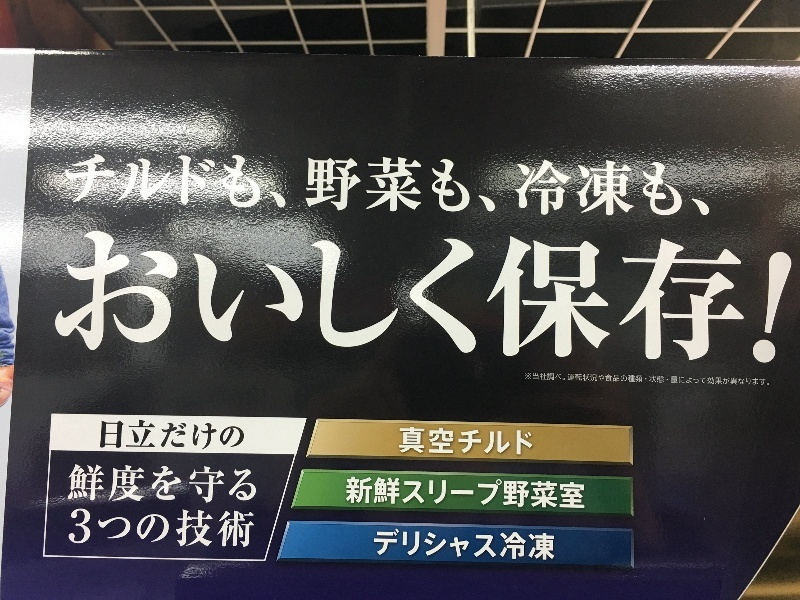text: (65, 230, 80, 366), (81, 230, 96, 366), (97, 230, 112, 366), (113, 230, 128, 366), (129, 230, 144, 366), (145, 230, 160, 366), (161, 230, 176, 366), (177, 230, 192, 366), (193, 230, 208, 366), (209, 230, 224, 366), (225, 230, 240, 366), (241, 230, 256, 366), (257, 230, 272, 366), (273, 230, 288, 366), (289, 230, 304, 366), (305, 230, 320, 366), (321, 230, 336, 366), (337, 230, 352, 366), (353, 230, 368, 366), (369, 230, 384, 366), (385, 230, 400, 366), (401, 230, 416, 366), (417, 230, 432, 366), (433, 230, 448, 366), (449, 230, 464, 366), (465, 230, 480, 366), (481, 230, 496, 366), (497, 230, 512, 366), (513, 230, 528, 366), (529, 230, 544, 366), (545, 230, 560, 366), (561, 230, 576, 366), (577, 230, 592, 366), (593, 230, 608, 366), (609, 230, 624, 366), (625, 230, 640, 366), (641, 230, 656, 366), (657, 230, 672, 366), (673, 230, 688, 366), (689, 230, 704, 366), (705, 230, 720, 366), (721, 230, 736, 366), (737, 230, 752, 366), (753, 230, 768, 366), (769, 230, 784, 366), (785, 230, 794, 366), (81, 154, 96, 221), (97, 154, 112, 221), (113, 154, 128, 221), (129, 154, 144, 221), (145, 154, 160, 221), (161, 154, 176, 221), (177, 154, 192, 221), (193, 154, 208, 221), (209, 154, 224, 221), (225, 154, 240, 221), (241, 154, 256, 221), (257, 154, 272, 221), (273, 154, 288, 221), (289, 154, 304, 221), (305, 154, 320, 221), (321, 154, 336, 221), (337, 154, 352, 221), (353, 154, 368, 221), (369, 154, 384, 221), (385, 154, 400, 221), (401, 154, 416, 221), (417, 154, 432, 221), (433, 154, 448, 221), (449, 154, 464, 221), (465, 154, 480, 221), (481, 154, 496, 221), (497, 154, 512, 221), (513, 154, 528, 221), (529, 154, 544, 221), (545, 154, 560, 221), (561, 154, 576, 221), (577, 154, 592, 221), (593, 154, 608, 221), (609, 154, 624, 221), (625, 154, 640, 221), (641, 154, 656, 221), (657, 154, 672, 221), (673, 154, 688, 221), (689, 154, 704, 221), (57, 230, 64, 366), (67, 154, 80, 221), (81, 465, 96, 506), (97, 465, 112, 506), (113, 465, 128, 506), (129, 465, 144, 506), (145, 465, 160, 506), (161, 465, 176, 506), (177, 465, 192, 506), (193, 465, 208, 506), (209, 465, 224, 506), (225, 465, 240, 506), (241, 465, 256, 506), (81, 509, 96, 549), (97, 509, 112, 549), (113, 509, 128, 549), (129, 509, 144, 549), (145, 509, 160, 549), (161, 509, 176, 549), (177, 509, 192, 549), (193, 509, 208, 549), (209, 509, 224, 549), (225, 509, 240, 549), (241, 509, 254, 549), (353, 477, 368, 511), (369, 477, 384, 511), (385, 477, 400, 511), (401, 477, 416, 511), (417, 477, 432, 511), (433, 477, 448, 511), (449, 477, 464, 511), (465, 477, 480, 511), (481, 477, 496, 511), (497, 477, 512, 511), (513, 477, 528, 511), (529, 477, 544, 511), (545, 477, 560, 511), (561, 477, 576, 511), (385, 529, 400, 562), (401, 529, 416, 562), (417, 529, 432, 562), (433, 529, 448, 562), (449, 529, 464, 562), (465, 529, 480, 562), (481, 529, 496, 562), (497, 529, 512, 562), (513, 529, 528, 562), (529, 529, 544, 562), (113, 419, 128, 451), (129, 419, 144, 451), (145, 419, 160, 451), (161, 419, 176, 451), (177, 419, 192, 451), (193, 419, 208, 451), (209, 419, 224, 451), (225, 419, 240, 451), (401, 427, 416, 457), (417, 427, 432, 457), (433, 427, 448, 457), (449, 427, 464, 457), (465, 427, 480, 457), (481, 427, 496, 457), (497, 427, 512, 457), (513, 427, 528, 457), (70, 465, 80, 506), (545, 529, 556, 562), (71, 509, 80, 549), (705, 154, 710, 221), (374, 529, 384, 562), (102, 419, 112, 451), (577, 477, 585, 511), (753, 373, 769, 386), (529, 373, 544, 386), (545, 373, 560, 386), (561, 373, 576, 386), (577, 373, 592, 386), (593, 373, 608, 386), (609, 373, 624, 386), (625, 373, 640, 386), (641, 373, 656, 386), (657, 373, 672, 386), (673, 373, 688, 386), (689, 373, 704, 386), (705, 373, 720, 386), (721, 373, 736, 386), (737, 373, 752, 386), (347, 477, 352, 511), (241, 419, 246, 451), (529, 427, 533, 457), (257, 465, 259, 506), (525, 373, 528, 386), (399, 427, 400, 457)
